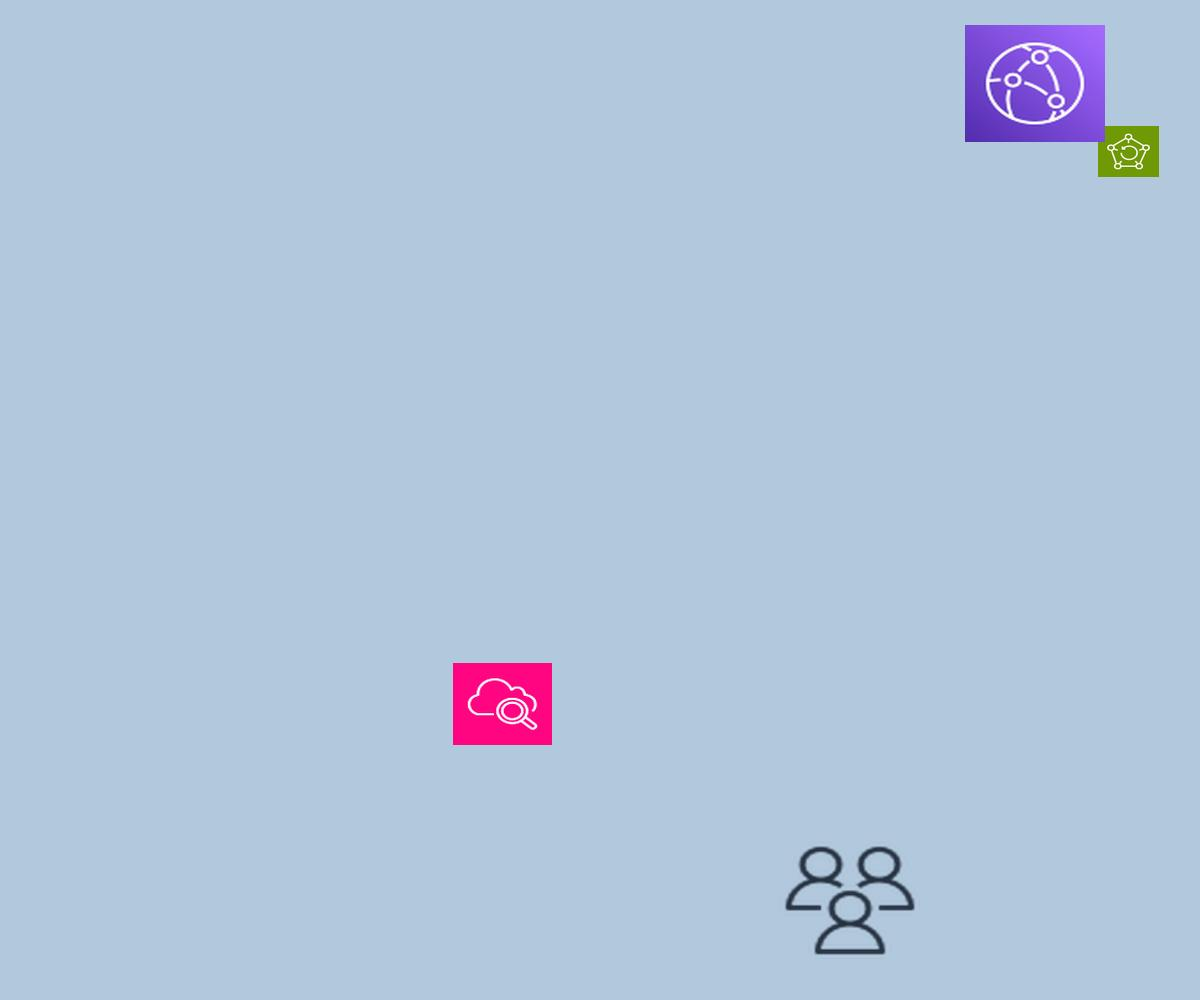AWS-Backup: (1098, 126, 1159, 177)
AWS-CloudFront: (965, 25, 1105, 142)
AWS-CloudWatch: (453, 663, 552, 745)
AWS-Res_Users: (780, 842, 920, 959)
